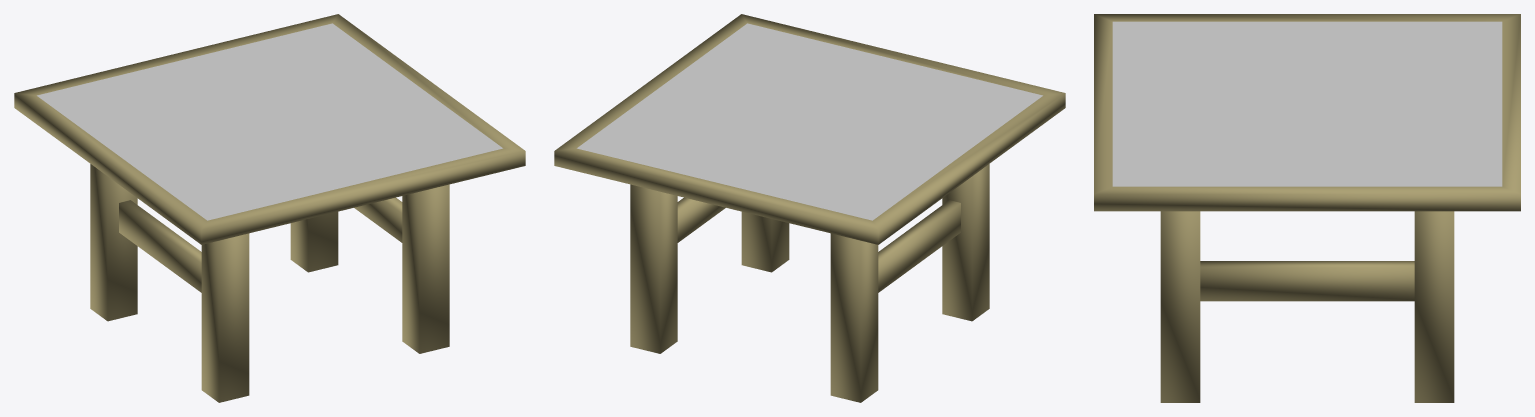
The model's file is TableCube.glb.
3 renders of one model, left to right at view 1: azimuth 30°, elevation 25°; view 2: azimuth 150°, elevation 25°; view 3: azimuth 270°, elevation 25°, orthographic. The views are drawn at different scales.
Visible parts, largest first — view 1: TableCube; view 2: TableCube; view 3: TableCube.
Boxes of the visible parts, <box> form: TableCube: <box>14,14,525,402</box>; TableCube: <box>554,14,1065,402</box>; TableCube: <box>1094,14,1520,402</box>.
Bounding box in the file's own units: 0.5696 × 0.3454 × 0.5696.
